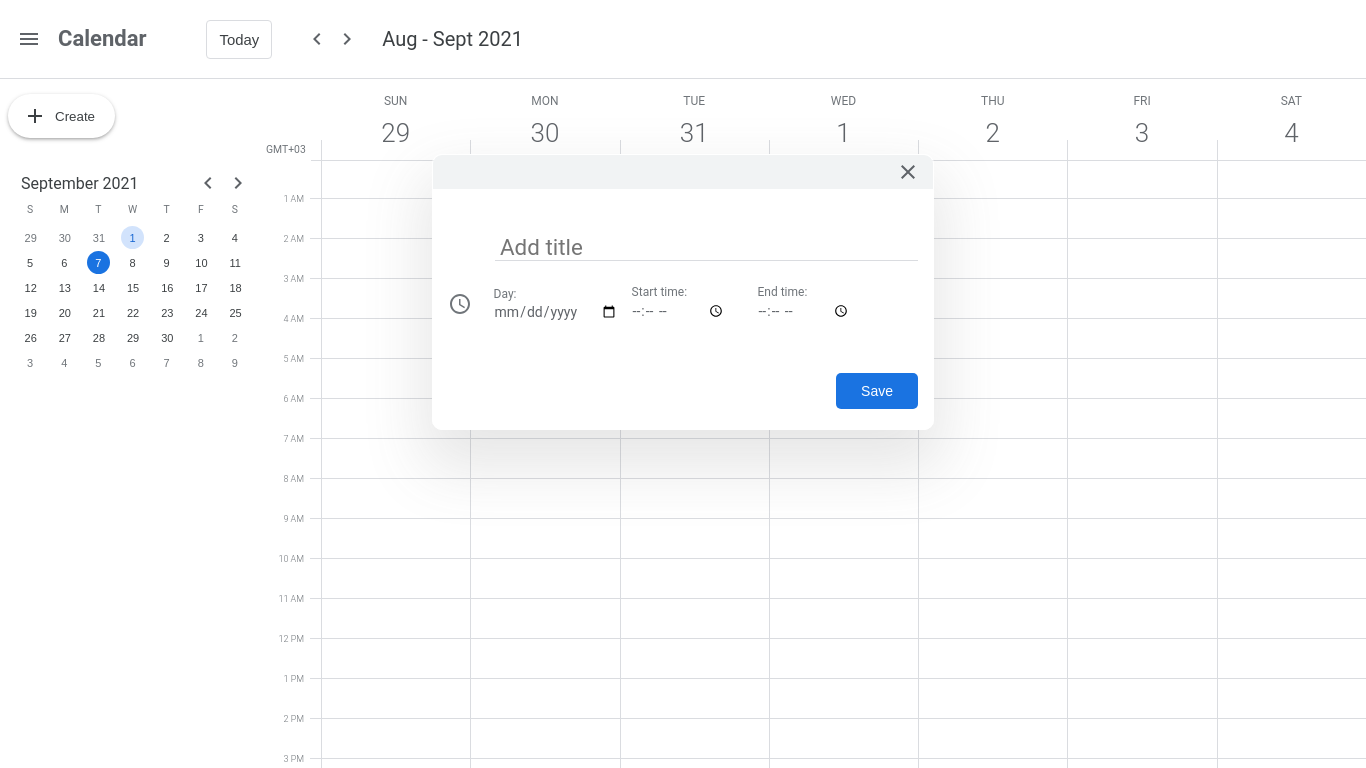
App › Event creation modal › on form submit › should not save an event when end time is incorrect
expect the text "Test event title" is not shown: met
Type "Test event title" into the field with test id "title-input" at {"x": 706, "y": 245}, box [495,229,918,261]
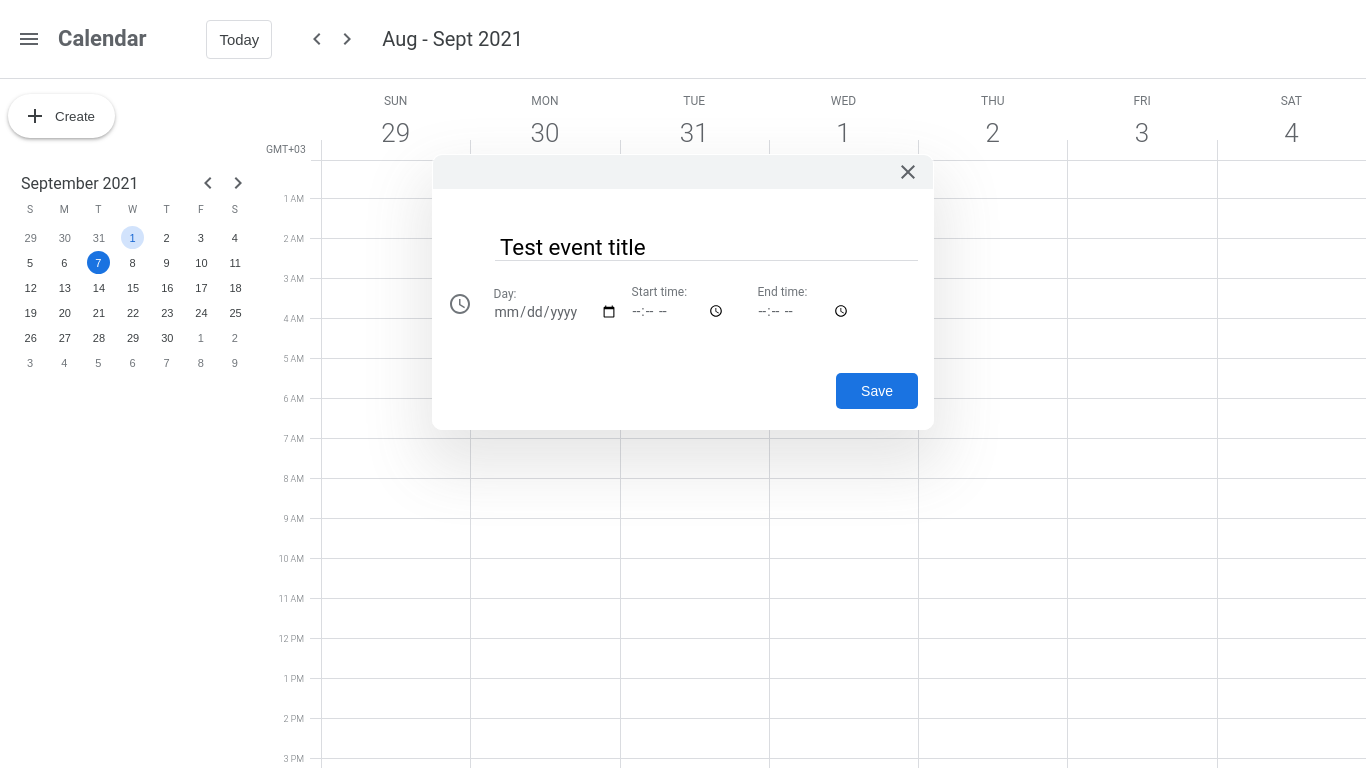
Type "2021-09-01" into the date field with test id "date-input" at {"x": 556, "y": 312}, box [492,301,620,323]
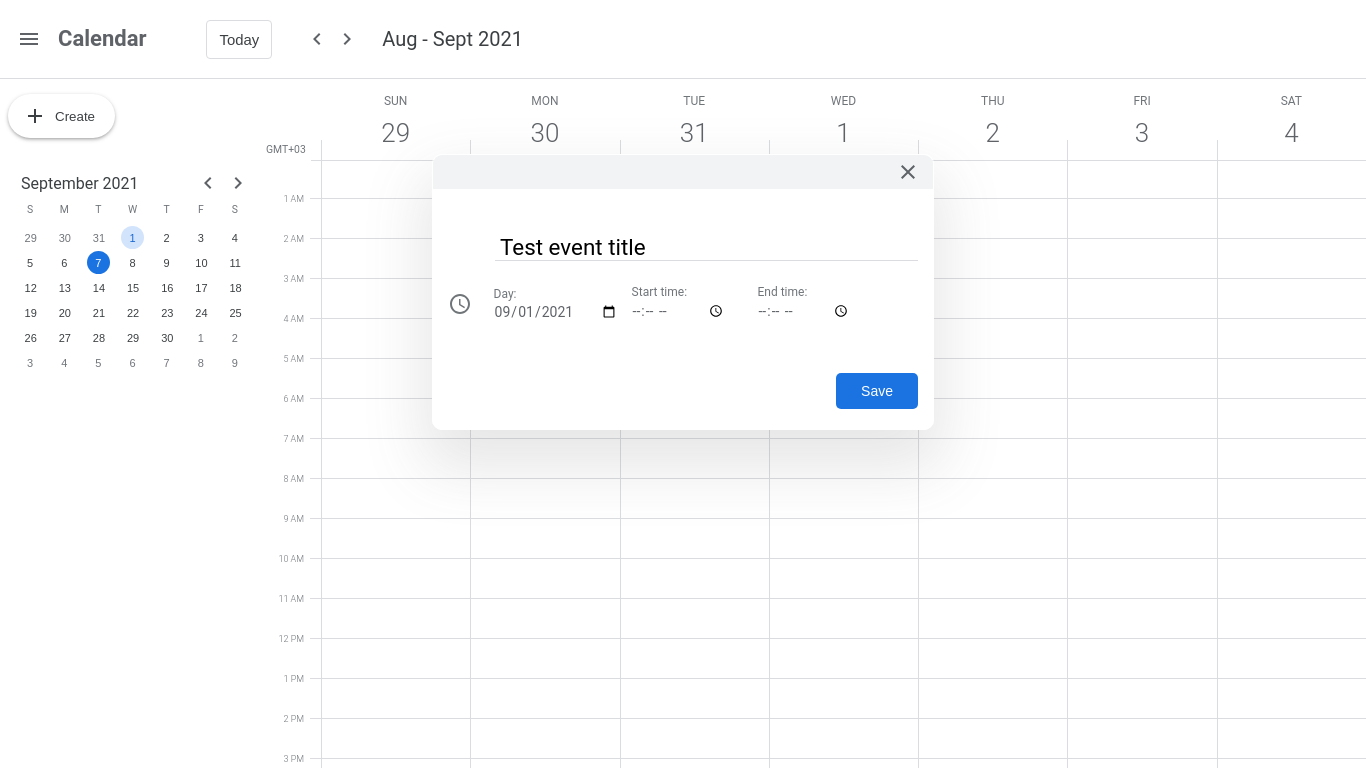
Type "12:00" into the time field with test id "start-time-input" at {"x": 679, "y": 311}, box [630,299,728,323]
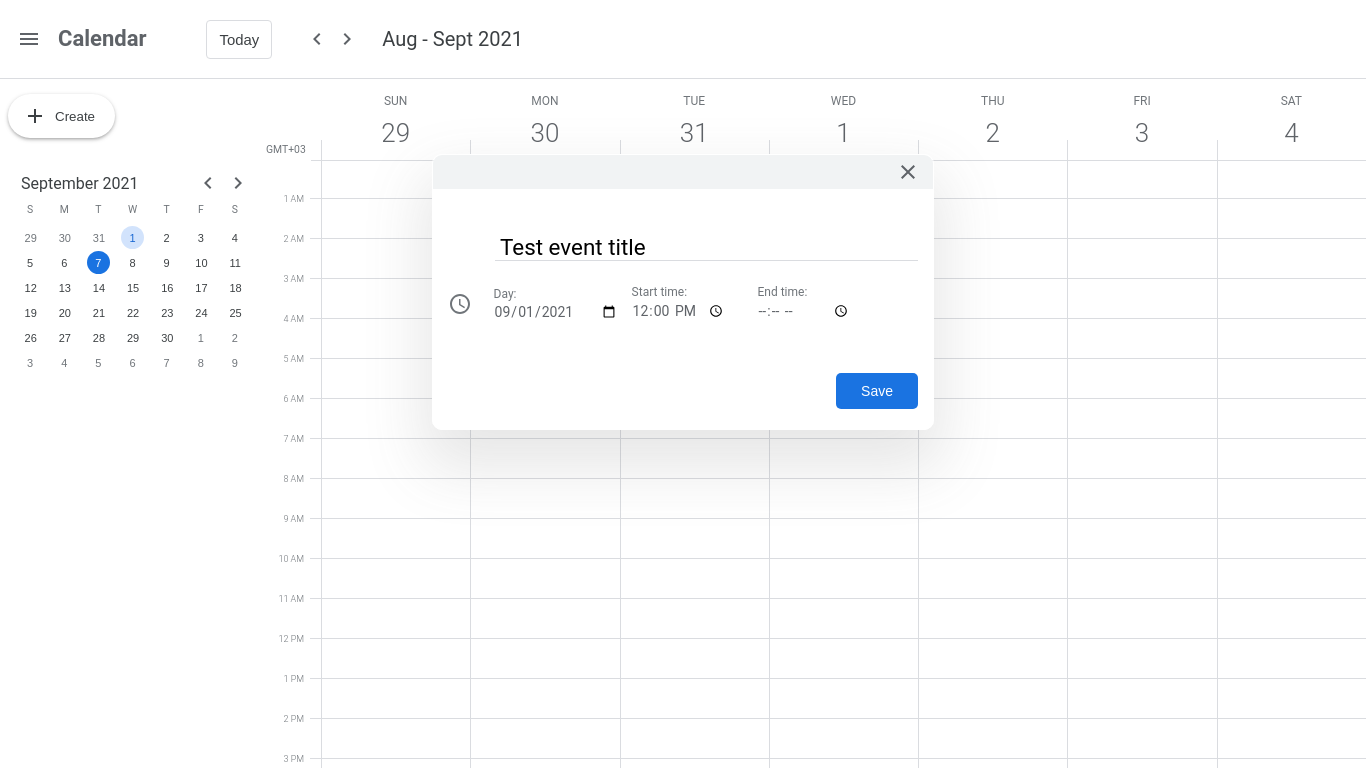
Type "10:00" into the time field with test id "end-time-input" at {"x": 805, "y": 311}, box [756,299,854,323]
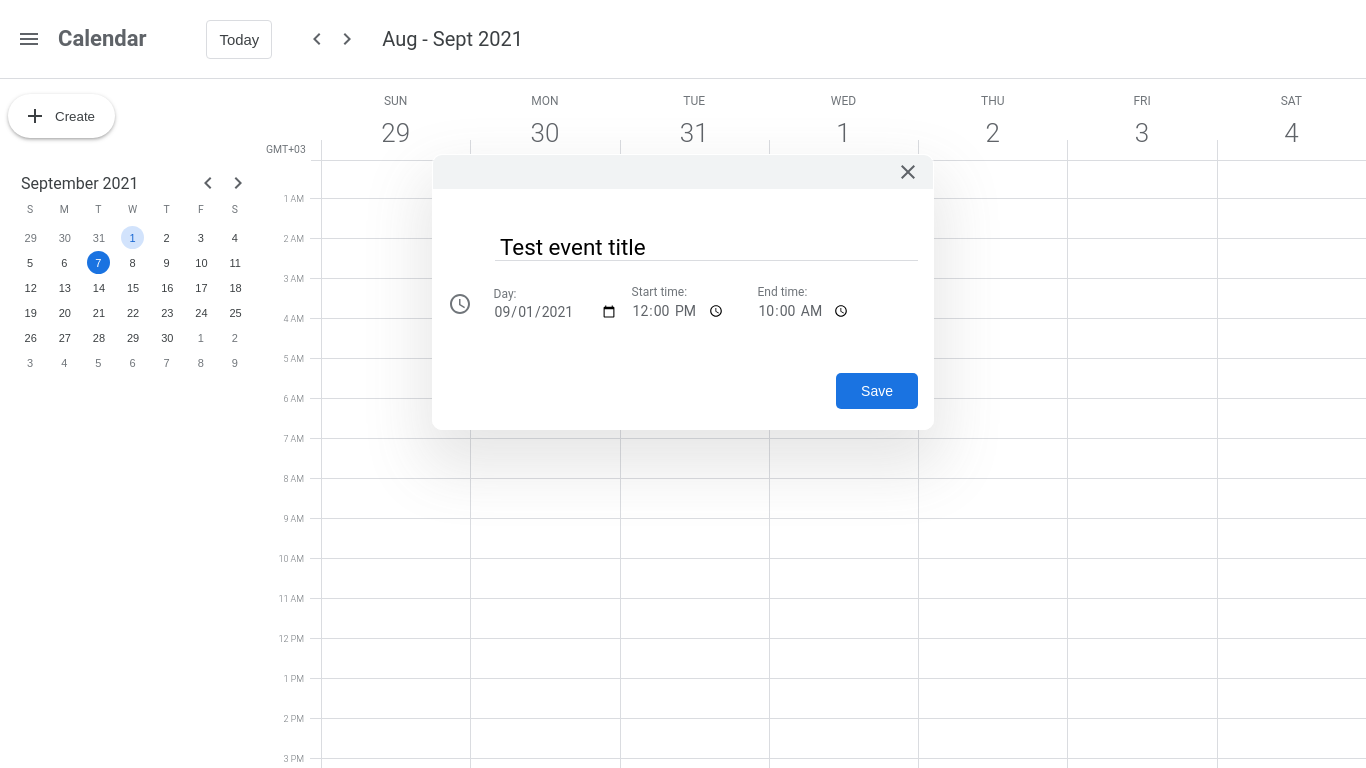
Click the button with test id "save-event-button" at {"x": 877, "y": 391}, box [836,373,918,409]
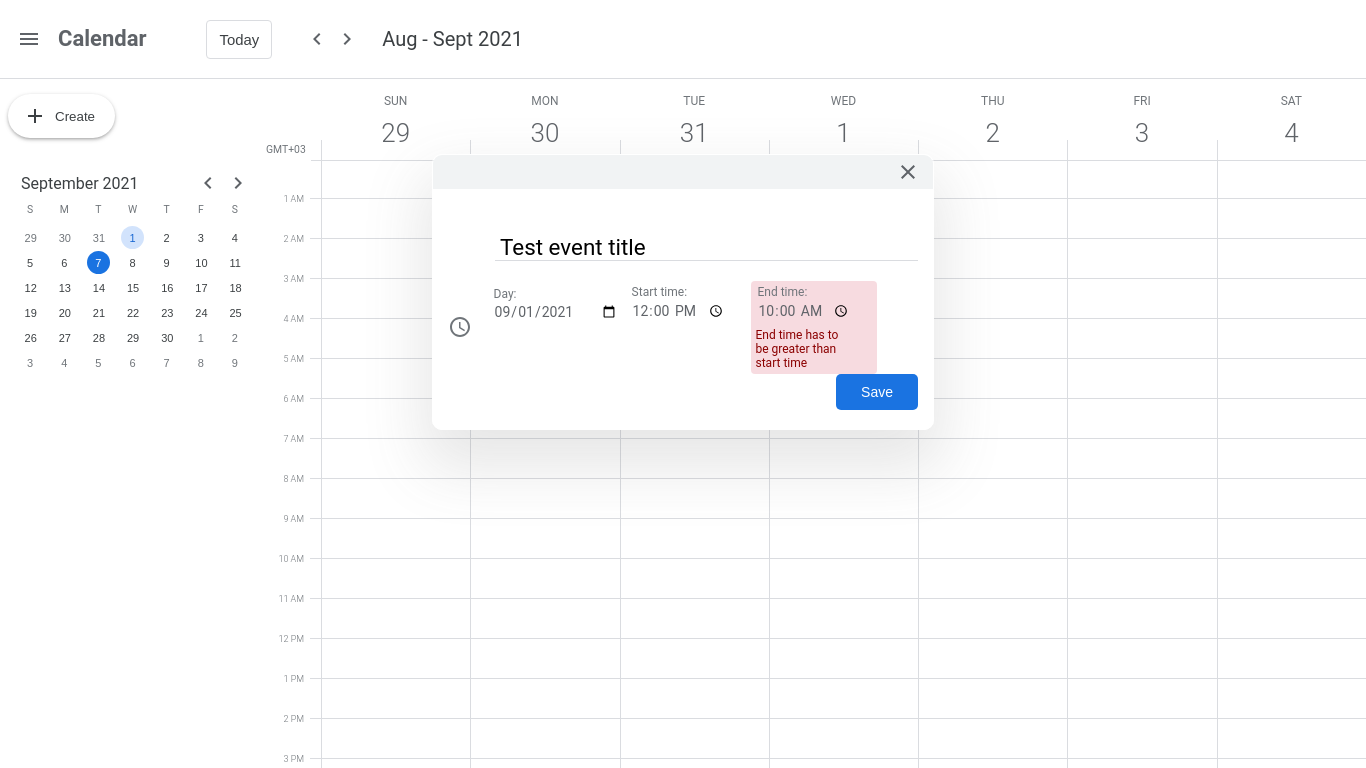
expect the text "End time has to be greater than start time" is shown: met, box [756,323,850,370]
